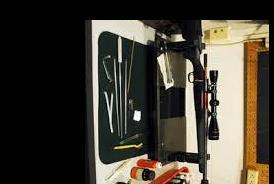larga: (167, 20, 220, 184)
